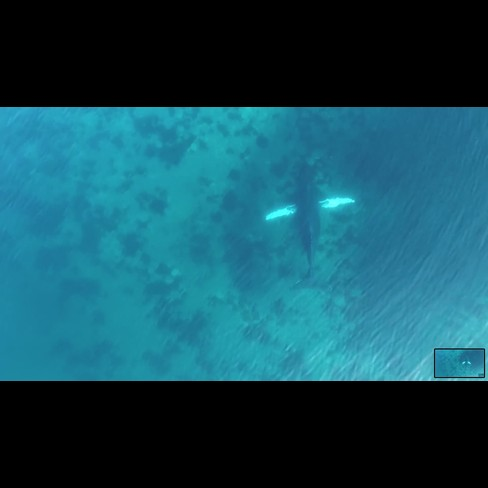hump: (259, 164, 360, 296)
